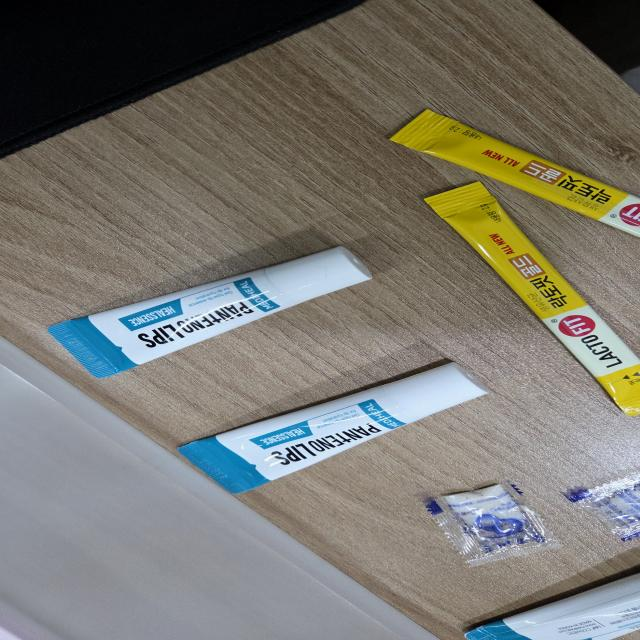lacto: (409, 176, 640, 422), (372, 93, 640, 250)
lip: (162, 341, 507, 504), (34, 244, 381, 380), (455, 570, 640, 640)
salt: (396, 470, 566, 576), (554, 465, 640, 549)
